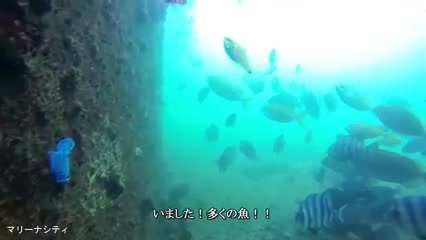azi: (218, 32, 259, 76)
ishidai: (291, 185, 348, 232)
